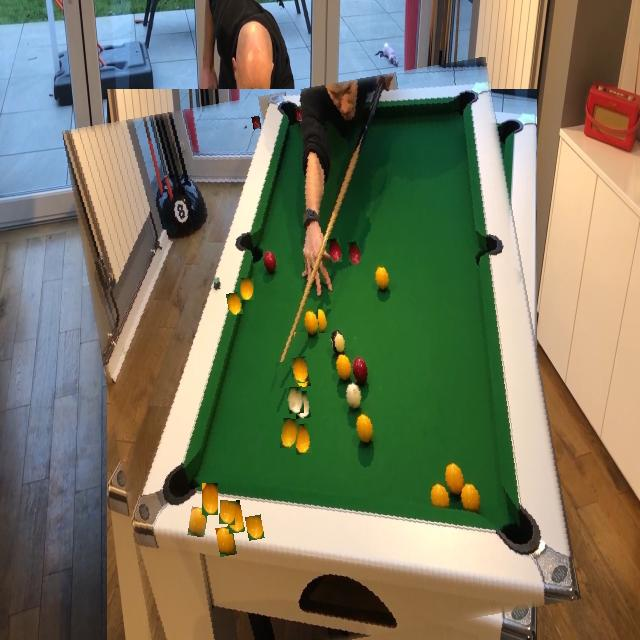Ball: (188, 507, 207, 536), (281, 419, 299, 449), (202, 483, 218, 515), (292, 357, 309, 384), (288, 387, 304, 414), (277, 362, 292, 388), (220, 501, 236, 525), (295, 332, 309, 356), (348, 242, 362, 266), (318, 309, 331, 333), (240, 278, 254, 300), (296, 108, 304, 121)
Billiard table: (84, 72, 559, 640)
